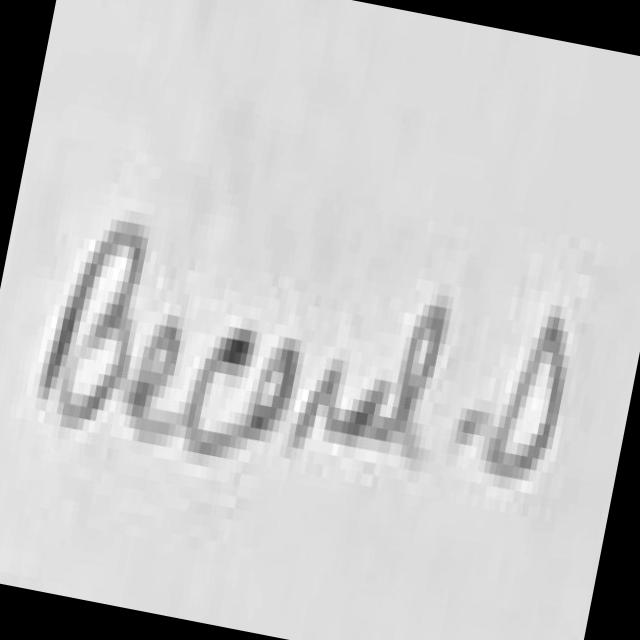B: (54, 225, 145, 428)
D: (493, 318, 569, 475)
a: (342, 385, 384, 445)
c: (188, 329, 256, 453)
e: (129, 327, 181, 442)
l: (376, 307, 451, 457)
o: (251, 349, 297, 440)
r: (293, 361, 341, 445)
